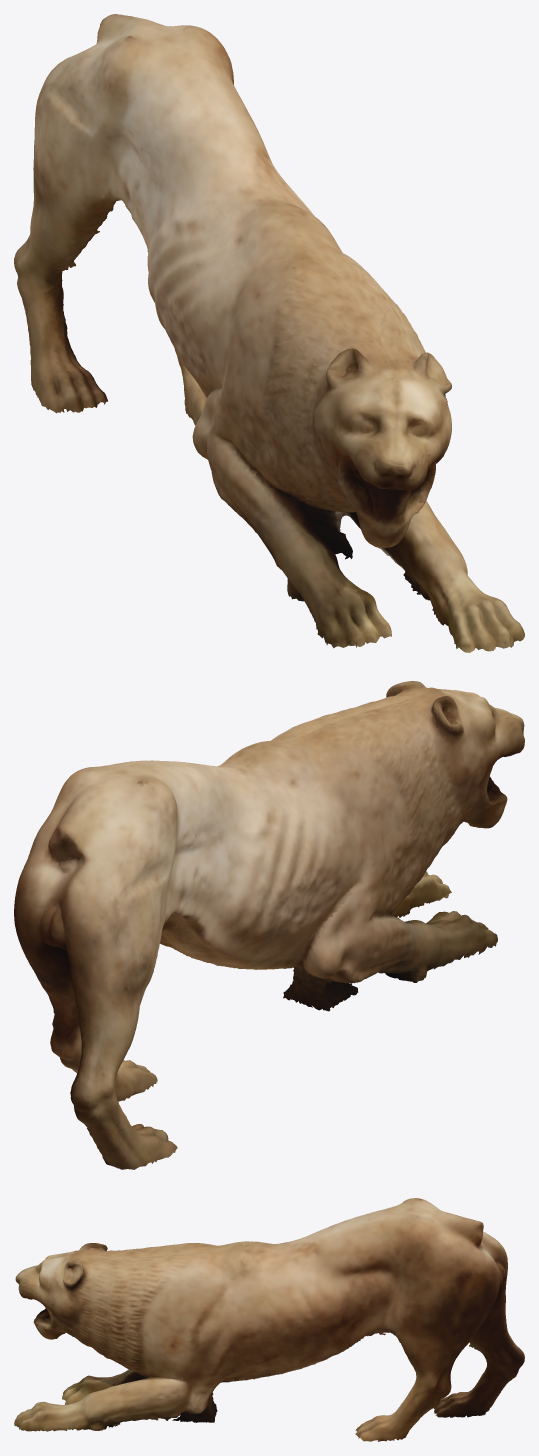
File: marble_statue_of_a_lion.glb
3 views of the same model, one above another, from view 1: azimuth 30°, elevation 25°; view 2: azimuth 150°, elevation 25°; view 3: azimuth 270°, elevation 25° (orthographic). The views are drawn at different scales.
Visible parts, largest first — view 1: Object_2, Object_3; view 2: Object_2, Object_3; view 3: Object_2, Object_3.
Part boxes in pixels (<box>): Object_2: <box>27,14,524,652</box>; Object_3: <box>14,16,314,435</box>; Object_2: <box>14,681,524,1169</box>; Object_3: <box>14,748,341,1169</box>; Object_2: <box>14,1198,509,1441</box>; Object_3: <box>243,1198,524,1441</box>.
Size of the model in its own units: 1.19 by 2.2 by 4.6.
1 material, 1 textured.
